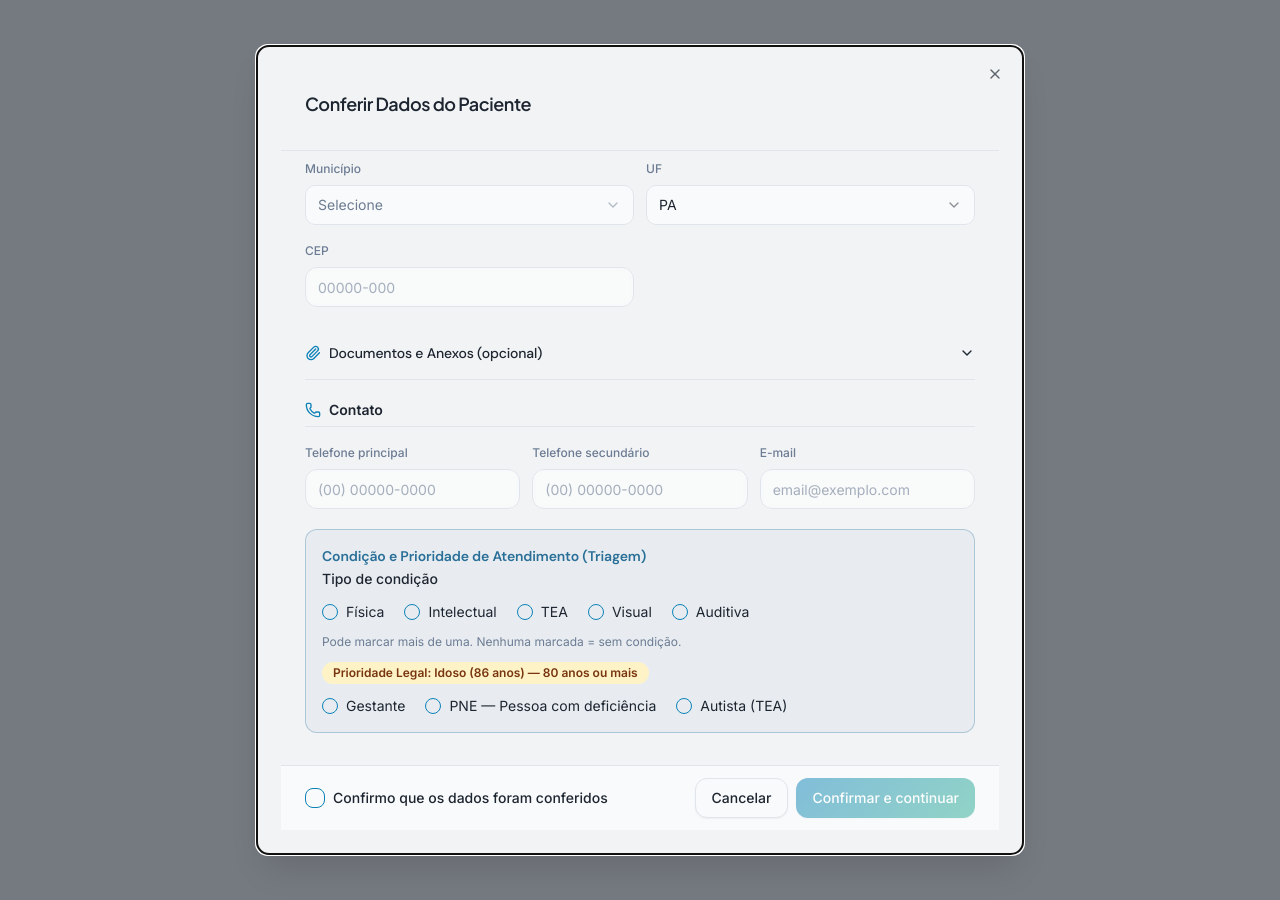
it: conferência de chegada e prioridades › exibe e salva condição e prioridades antes de prosseguir com o novo agendamento
The width and height of the screenshot is (1280, 900).
Later steps or results of the test are not shown.
(page scrolled)
Expected: the heading "Condição e Prioridade de Atendimento (Triagem)" is shown, [322, 547, 646, 565]
Click the 3rd checkbox named "TEA".
click(525, 612)  # box [517, 604, 533, 620]
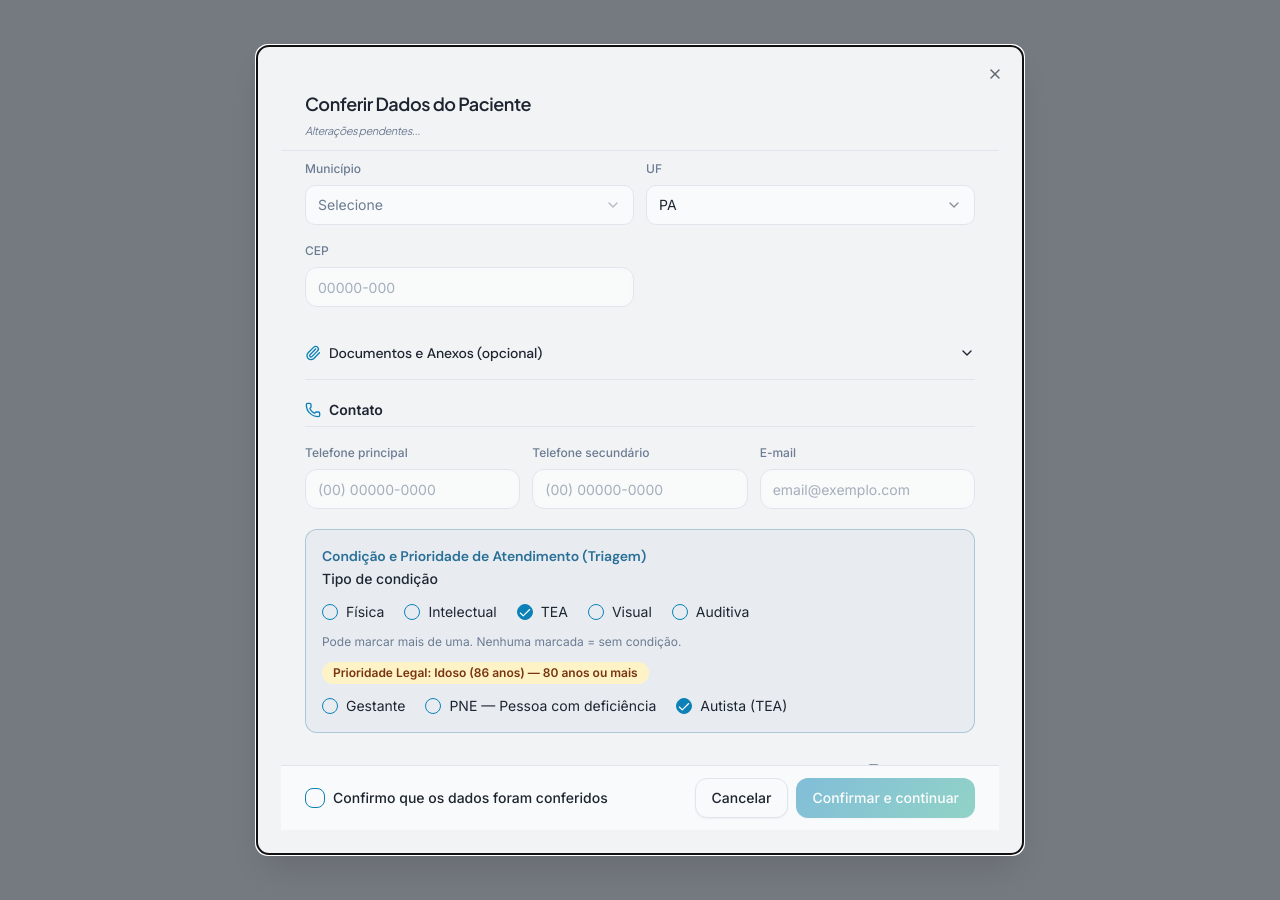
Click the checkbox named "Gestante" next to "Gestante".
click(330, 706)  # box [322, 698, 338, 714]
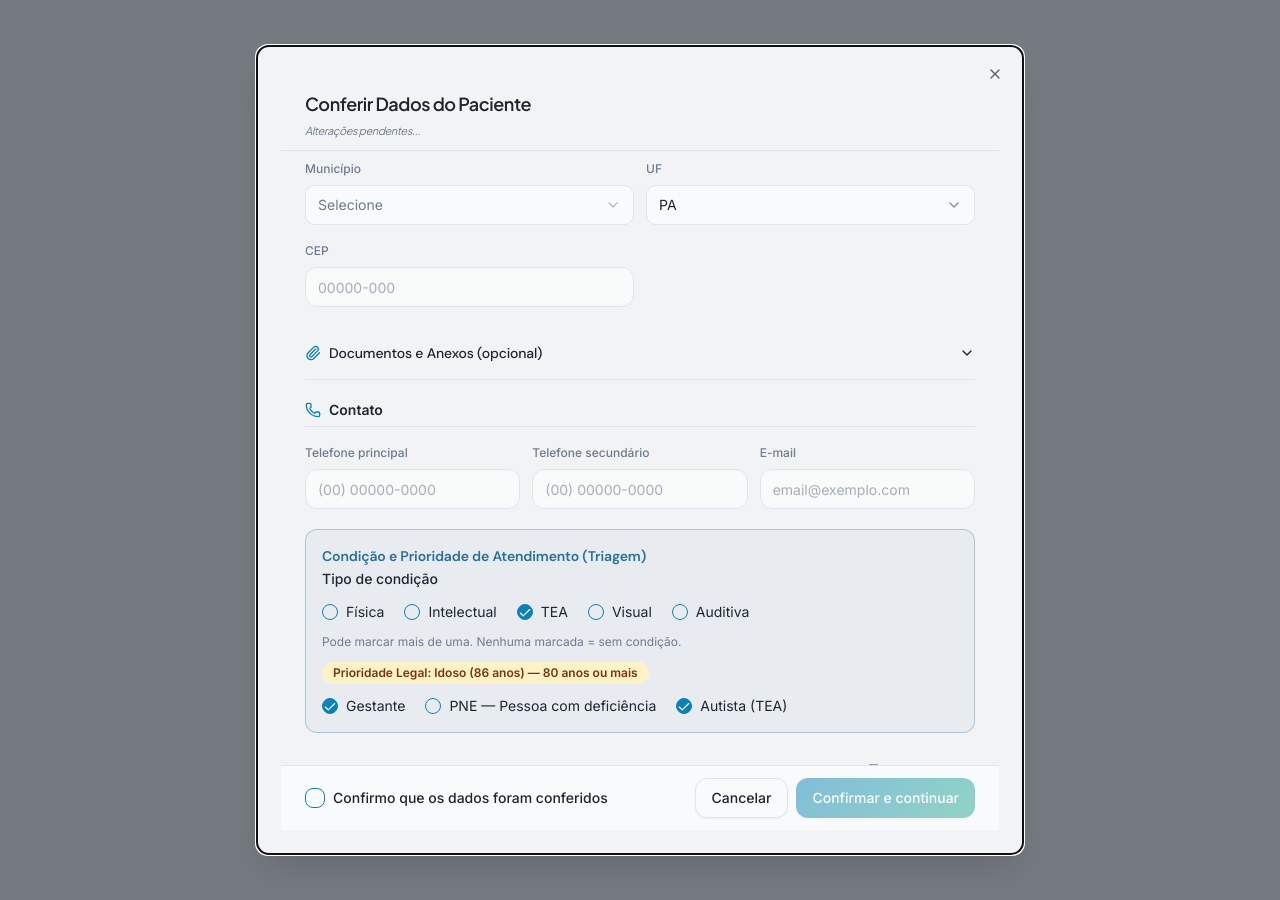
Click the checkbox named "PNE — Pessoa com deficiência" next to "PNE — Pessoa com deficiência".
click(433, 706)  # box [425, 698, 441, 714]
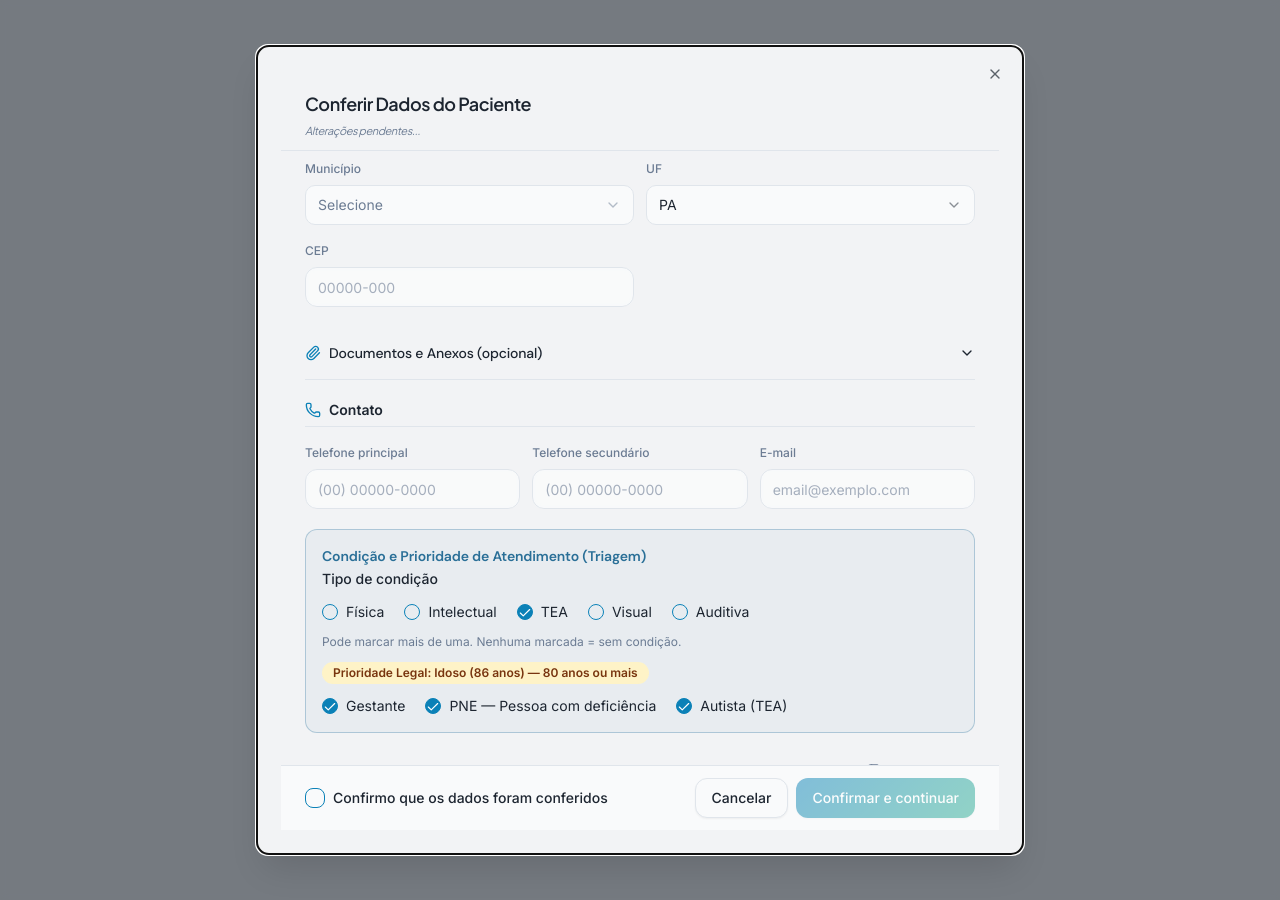
Now the checkbox named "Autista (TEA)" next to "Autista (TEA)" is checked, box [676, 698, 692, 714]
